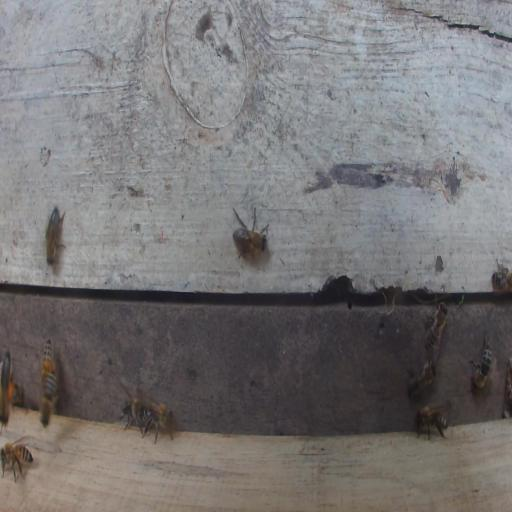nonpollenbee: (231, 205, 271, 260), (142, 392, 174, 447), (0, 434, 34, 485), (423, 293, 448, 359), (44, 203, 68, 270), (116, 381, 146, 434), (415, 401, 452, 441), (468, 332, 491, 393), (406, 356, 437, 400), (39, 364, 60, 428), (491, 257, 512, 298), (40, 337, 53, 377)
pollenbee: (0, 350, 15, 425)
